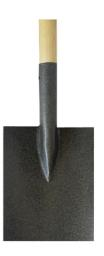PELLE: (0, 7, 104, 251)
